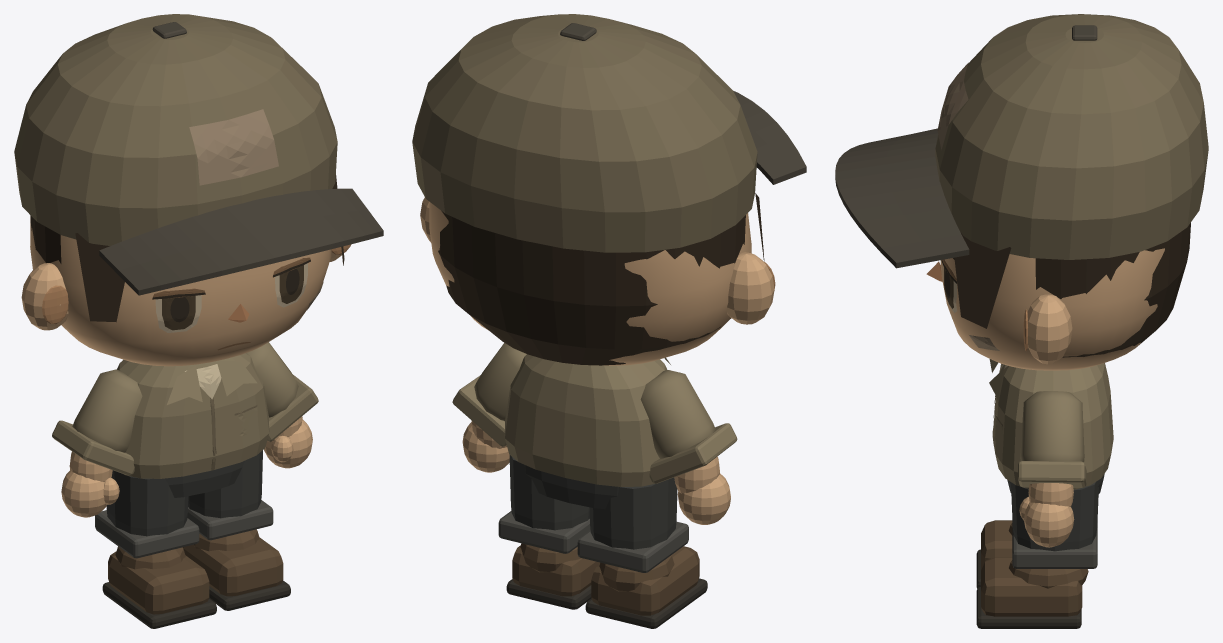
File: SimpleSurvivor.glb
The picture shows the model from 3 angles, left to right: view 1: azimuth 30°, elevation 25°; view 2: azimuth 150°, elevation 25°; view 3: azimuth 270°, elevation 25°; orthographic projection. The views are drawn at different scales.
Visible parts, largest first — view 1: Survivor_cap, Survivor_shirt, Survivor_head, Survivor_boots, Survivor_trousers, Survivor_hair, Survivor_face_details, Survivor_hands, Survivor_body; view 2: Survivor_cap, Survivor_shirt, Survivor_hair, Survivor_trousers, Survivor_head, Survivor_boots, Survivor_hands, Survivor_body; view 3: Survivor_cap, Survivor_head, Survivor_shirt, Survivor_hair, Survivor_boots, Survivor_trousers, Survivor_hands, Survivor_body, Survivor_face_details.
Boxes of the visible parts, bbox=[...] form: Survivor_cap: bbox=[14, 14, 383, 295]; Survivor_shirt: bbox=[52, 342, 318, 478]; Survivor_head: bbox=[21, 216, 351, 366]; Survivor_boots: bbox=[102, 529, 290, 628]; Survivor_trousers: bbox=[95, 450, 273, 558]; Survivor_hair: bbox=[30, 175, 344, 322]; Survivor_face_details: bbox=[152, 257, 323, 350]; Survivor_hands: bbox=[61, 419, 312, 517]; Survivor_body: bbox=[69, 416, 302, 481]; Survivor_cap: bbox=[412, 14, 806, 252]; Survivor_shirt: bbox=[452, 343, 737, 486]; Survivor_hair: bbox=[438, 193, 764, 365]; Survivor_trousers: bbox=[498, 455, 688, 572]; Survivor_head: bbox=[420, 197, 775, 365]; Survivor_boots: bbox=[506, 543, 707, 628]; Survivor_hands: bbox=[462, 422, 730, 524]; Survivor_body: bbox=[471, 420, 719, 493]; Survivor_cap: bbox=[835, 14, 1208, 268]; Survivor_head: bbox=[940, 248, 1164, 370]; Survivor_shirt: bbox=[989, 359, 1113, 489]; Survivor_hair: bbox=[954, 222, 1190, 357]; Survivor_boots: bbox=[976, 520, 1088, 628]; Survivor_trousers: bbox=[1007, 474, 1104, 568]; Survivor_hands: bbox=[1019, 496, 1074, 547]; Survivor_body: bbox=[1028, 483, 1073, 506]; Survivor_face_details: bbox=[926, 258, 999, 350].
Size of the model in its own units: 1.11 by 1.78 by 1.07.
